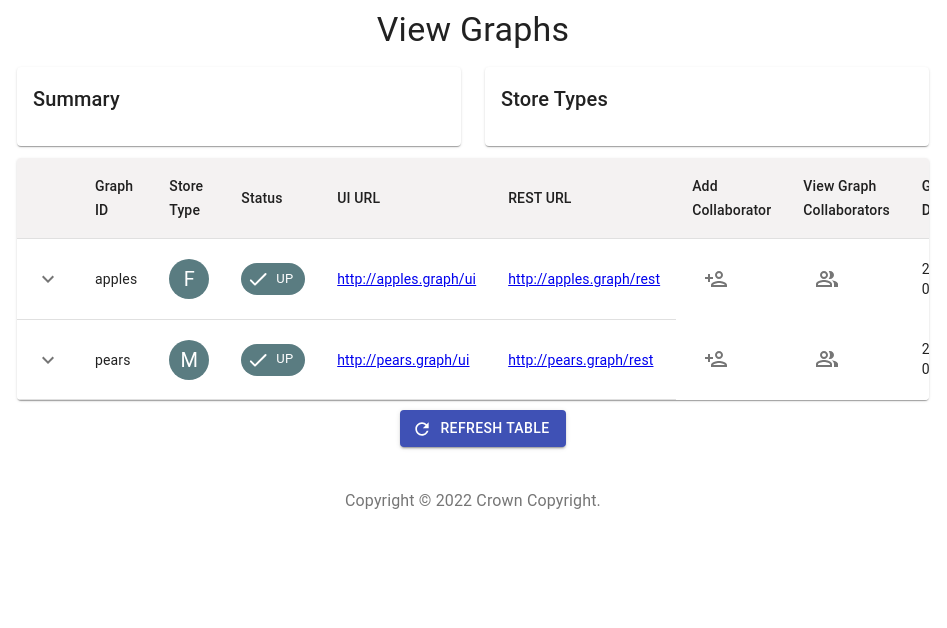
Test case: Integration with GetAllGraphIds repo › should display federated graph ids as a list of strings
The width and height of the screenshot is (947, 628).
Click the button with id "expand-row-button-0".
click(48, 279)  # box [33, 264, 63, 294]
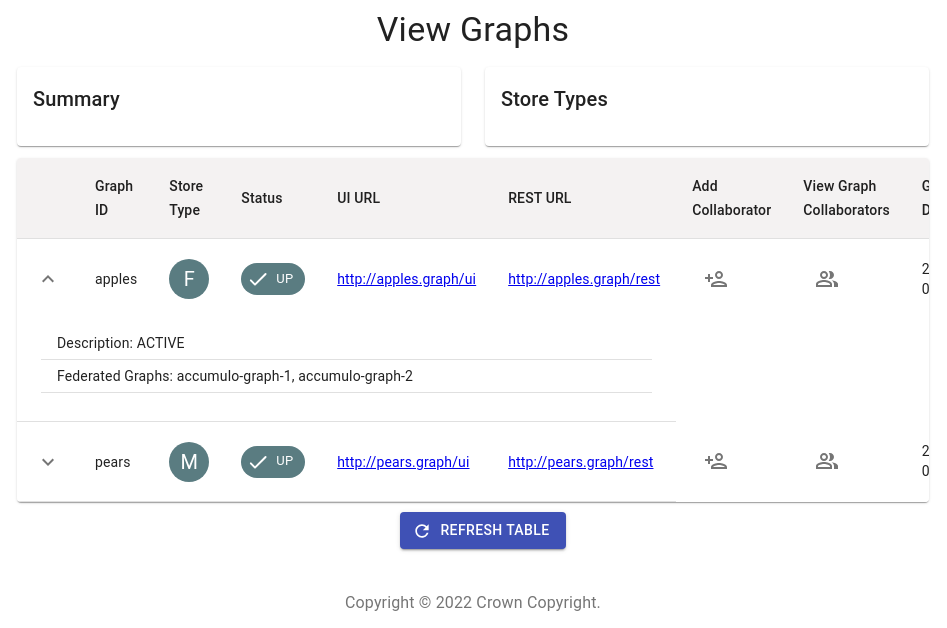
Now the row with id "federated-graph-ids-0" reads "Federated Graphs: accumulo-graph-1, accumulo-graph-2", box [57, 368, 413, 384]
